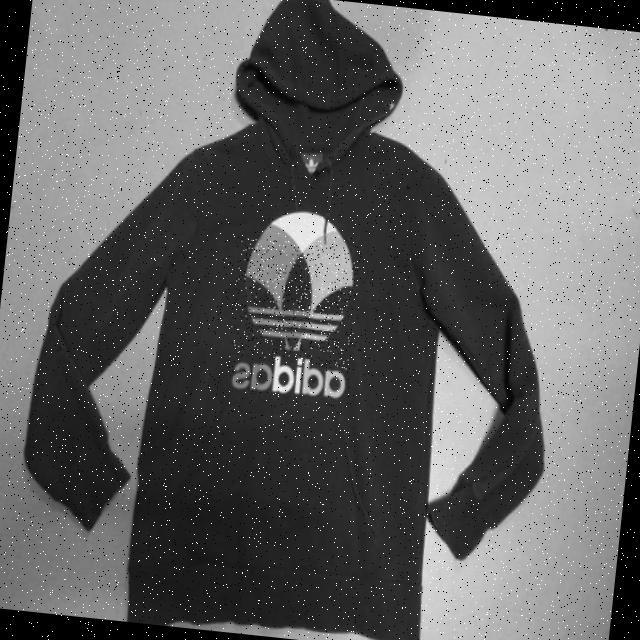Adidas: (228, 237, 362, 370)
